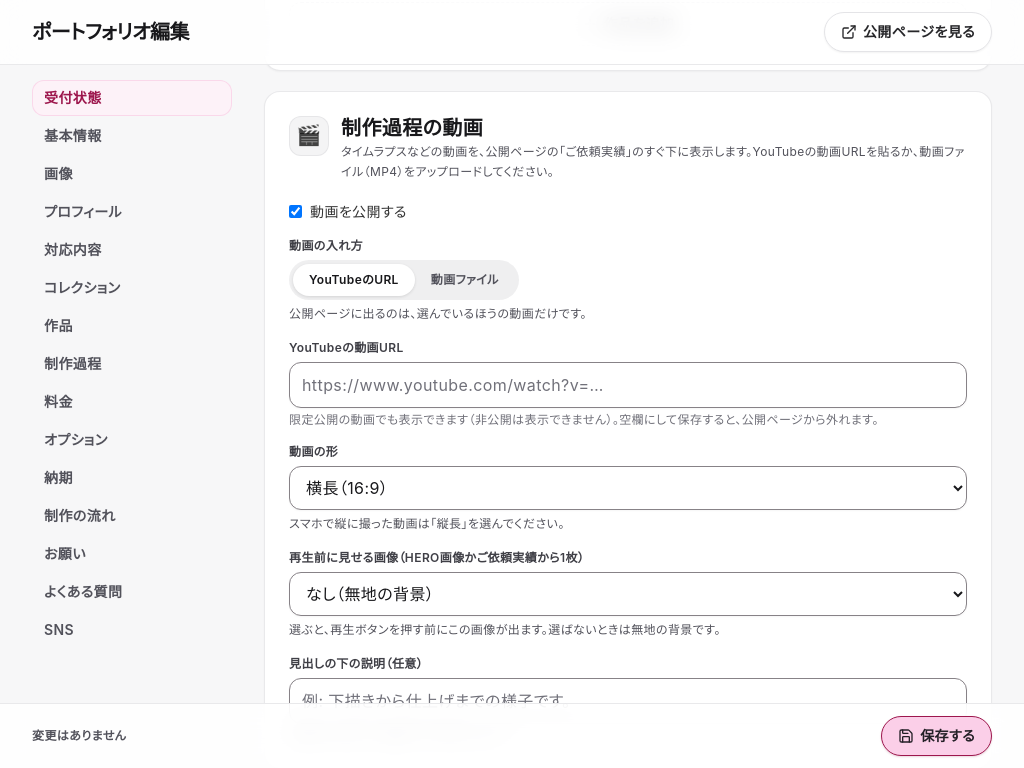
Test: PortfolioEditor process video section › flags the section and says why when the URL is neither a YouTube video nor an uploaded file
The image size is (1024, 768).
(page scrolled)
In the field labelled "YouTubeの動画URL": (628, 384) [289, 362, 967, 408], type "https://example.com/movie.mp4"
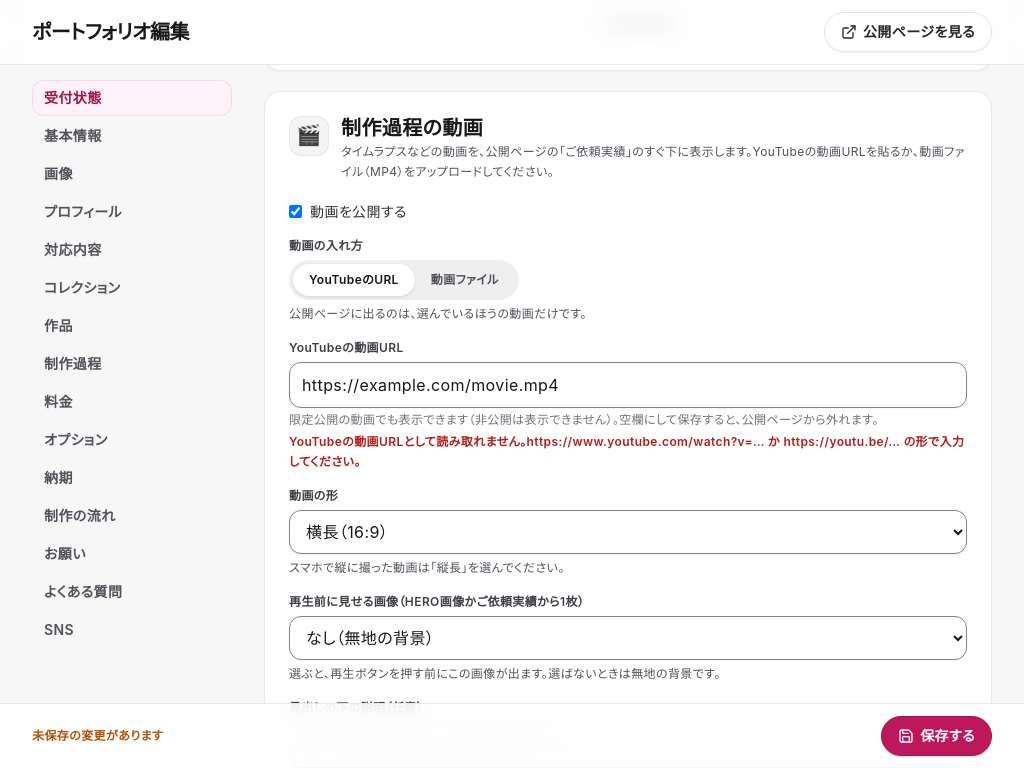
Click the button "保存する": (937, 736) [881, 716, 992, 756]
(page scrolled)
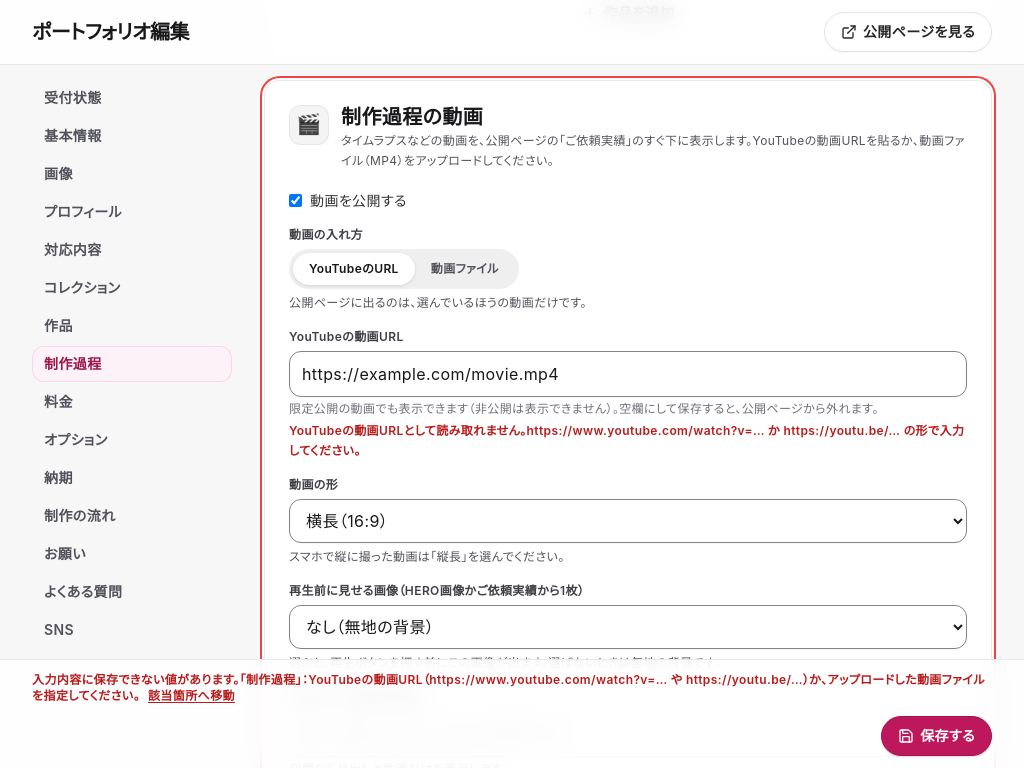
Check: the text "入力内容に保存できない値があります。" is shown, box [32, 672, 985, 703]
Check: the text "「制作過程」：YouTubeの動画URL（https://www.youtube.com/watch?v=… や https://youtu.be/…）か、アップロードした動画ファイルを指定してください。" is shown, box [32, 672, 985, 703]
